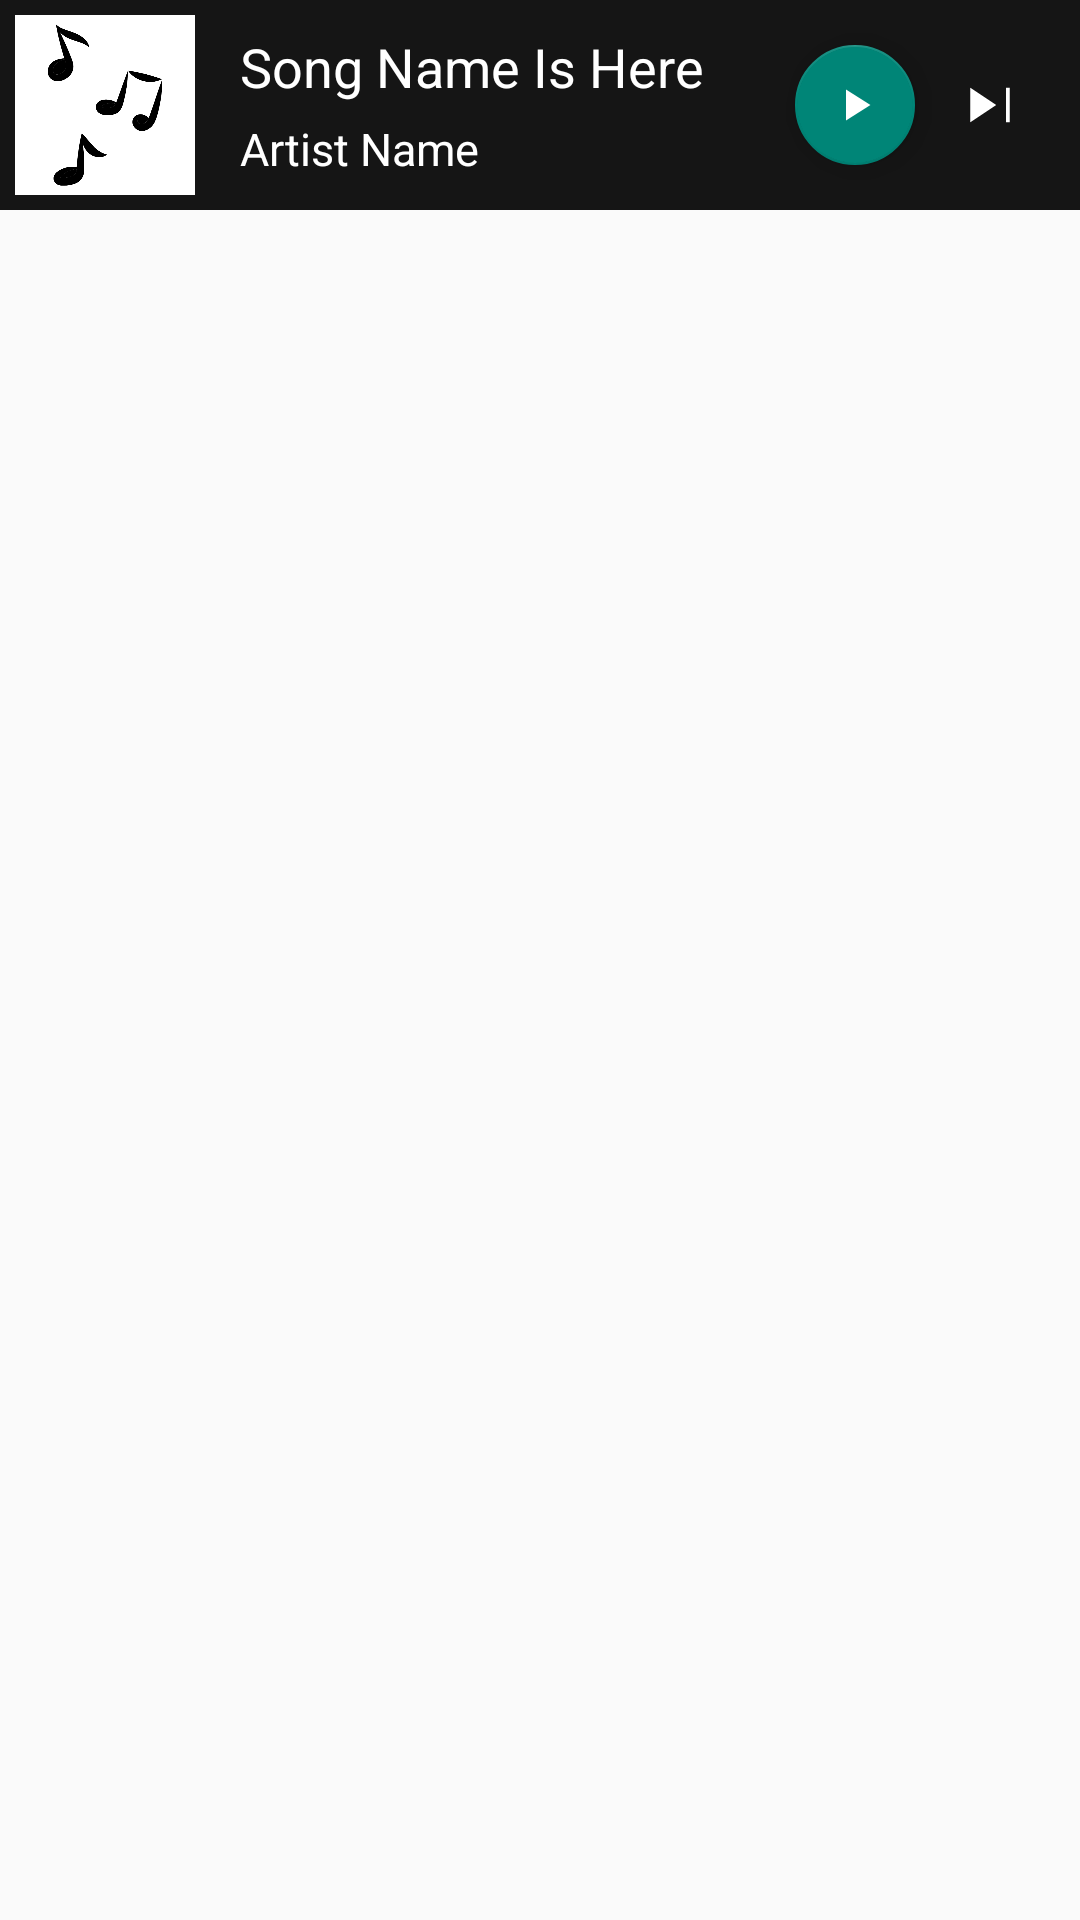

Named icons in this screenshot (1080w x 1920h) and their centers, (x,y):
play: (855,105)
skip next: (990,105)
